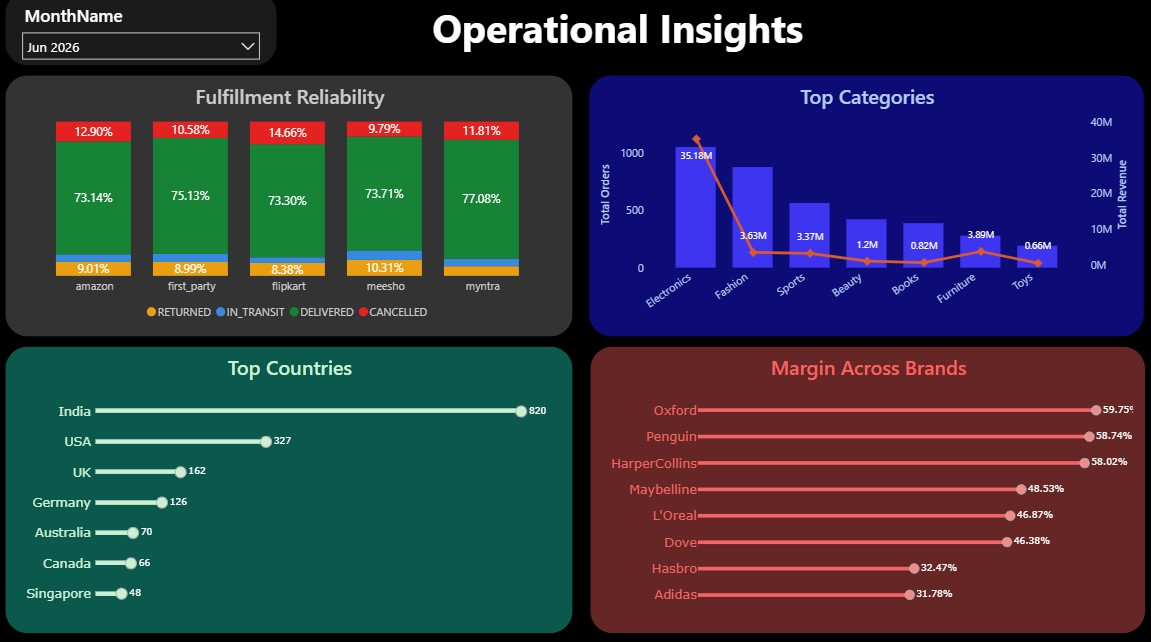

The dashboard page shown, as its layout file describes it:
{"tool":"powerbi","page":{"name":"Operational Insights","canvas":[1280,720],"ordinal":1},"visuals":[{"type":"lollipopbar802A5F771F003EC2AAC6A6C54D799B26","title":"Top Countries","fields":{"col_0":["ORDERS_TIER1.DELIVERY_COUNTRY"],"col_1":["ORDERS_TIER1.Total Orders Order"]},"box":[15.1,389.7,624.4,315.6],"z":0},{"type":"lineStackedColumnComboChart","title":"Top Categories","fields":{"Category":["ORDER_ITEMS_TIER1.CATEGORY"],"Y":["CUSTOMER_DIM (2).Total Orders"],"Y2":["ORDER_ITEMS_TIER1.Gross Total Revenue"]},"box":[655.9,91.9,610.6,288.2],"z":1000},{"type":"hundredPercentStackedColumnChart","title":"Fulfillment Reliability","fields":{"Category":["SHOP_DIM.MARKETPLACE"],"Y":["CountNonNull(ORDERS_TIER1.CURRENT_STATUS)"],"Series":["ORDERS_TIER1.CURRENT_STATUS"]},"box":[15.1,91.9,624.4,288.2],"z":2000},{"type":"lollipopbar802A5F771F003EC2AAC6A6C54D799B26","title":"Margin Across Brands","fields":{"col_0":["ORDER_ITEMS_TIER1.BRAND"],"col_1":["ORDER_ITEMS_TIER1.Gross Margin %"]},"box":[657.3,389.7,610.6,315.6],"z":3000},{"type":"slicer","fields":{"Values":["Date.MonthName"]},"box":[15.1,0,299.1,82.3],"z":4000},{"type":"textbox","box":[448.7,1.4,478.9,81],"z":5000}]}

Visuals, with their boxes in screenshot pixels (x1, y1, x2, y2), scaled from the page's 1280x720 canvas onto the 1151x642 screenshot:
"Top Countries" lollipopbar802A5F771F003EC2AAC6A6C54D799B26: l=14, t=347, r=575, b=629
"Top Categories" lineStackedColumnComboChart: l=590, t=82, r=1139, b=339
"Fulfillment Reliability" hundredPercentStackedColumnChart: l=14, t=82, r=575, b=339
"Margin Across Brands" lollipopbar802A5F771F003EC2AAC6A6C54D799B26: l=591, t=347, r=1140, b=629
slicer - Date.MonthName: l=14, t=0, r=283, b=73
textbox: l=403, t=1, r=834, b=73
